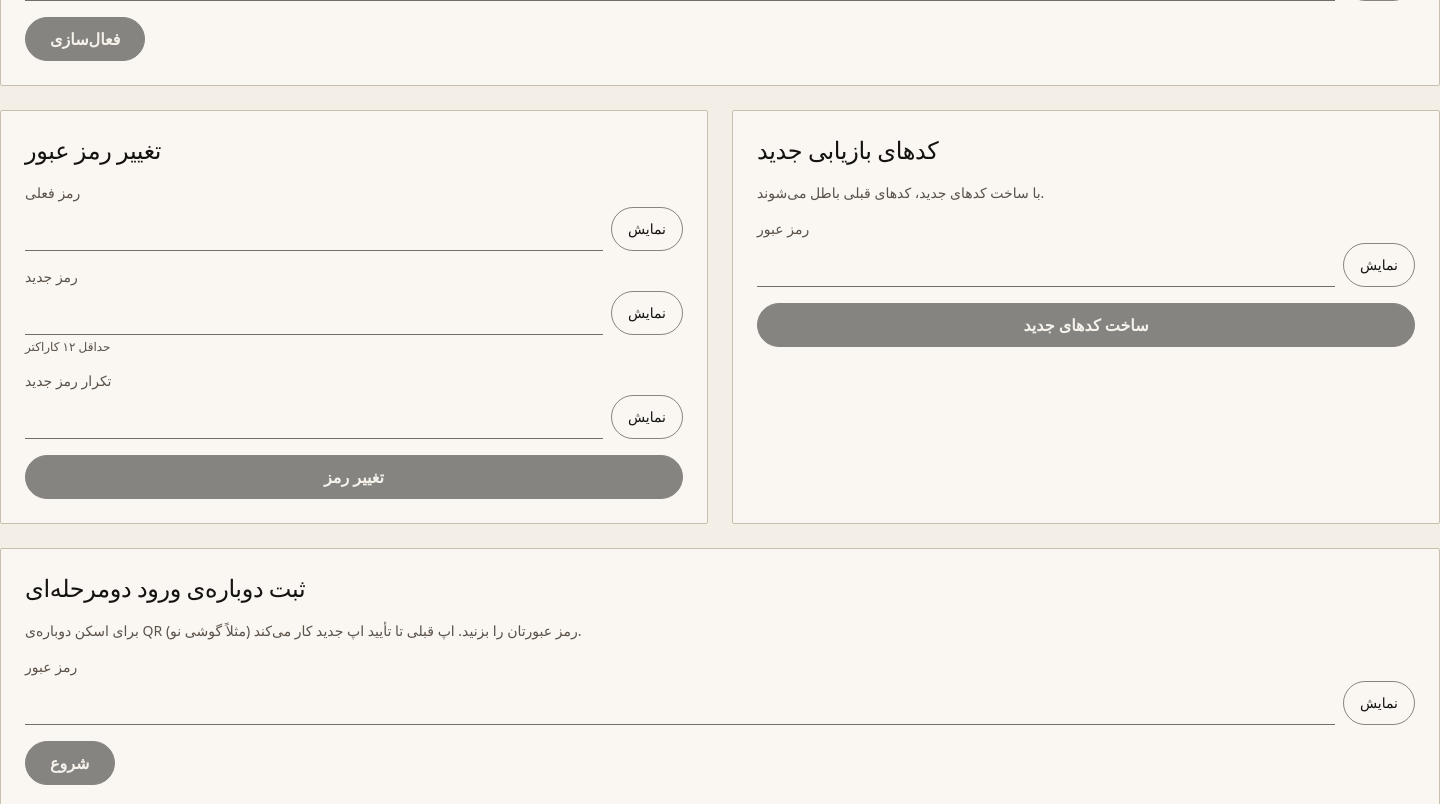
Scenario: replacing the authenticator › shows the server's message for a wrong password and stays on the first step
(page scrolled)
In the password field labelled "رمز عبور" below "ثبت دوباره‌ی ورود دومرحله‌ای": (680, 703) 25,681 -> 1335,725, type "wrong-password-1"
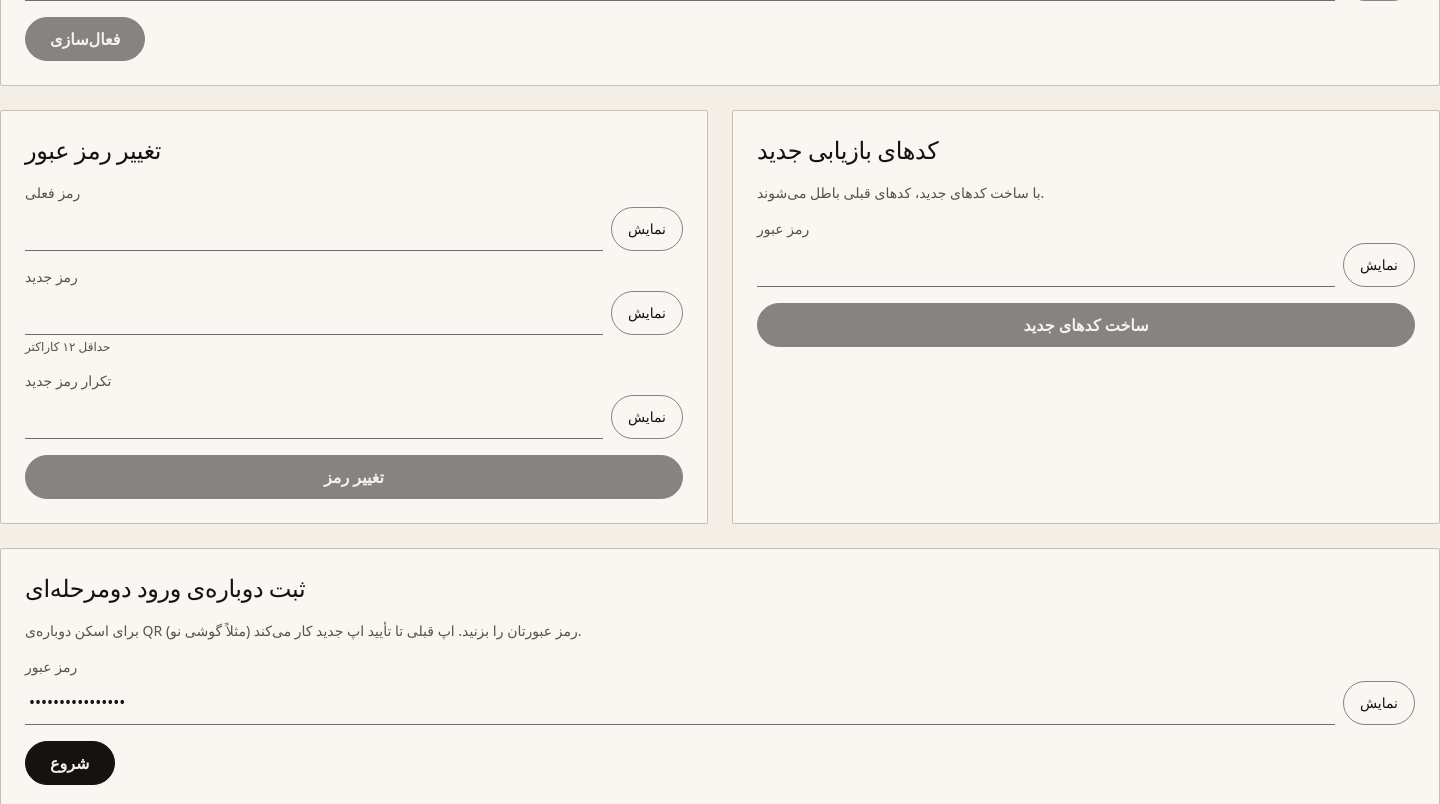
Click the button "شروع": (70, 763) 25,741 -> 114,785
(page scrolled)
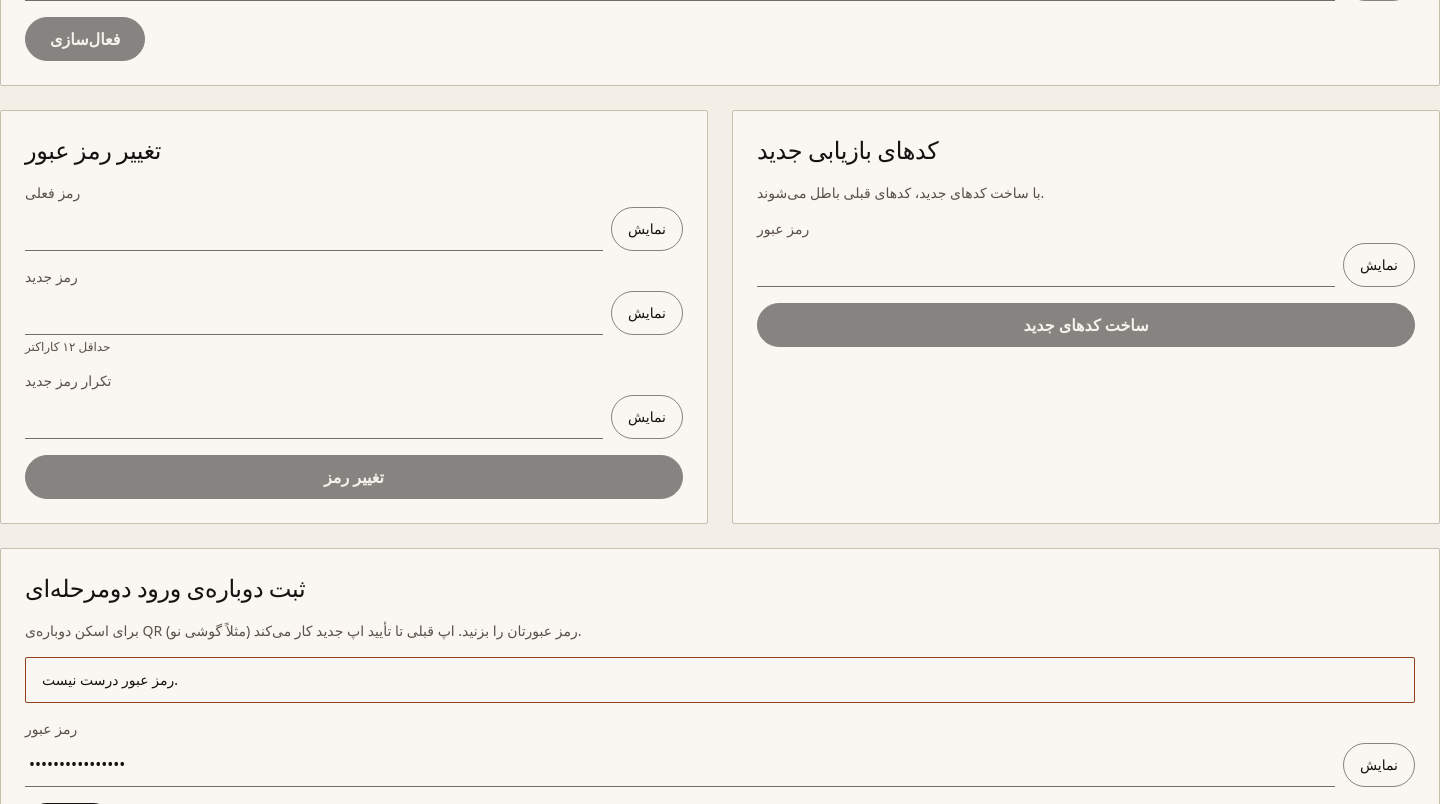
Expected: the text "رمز عبور درست نیست." is shown, 25,657 -> 1415,703
